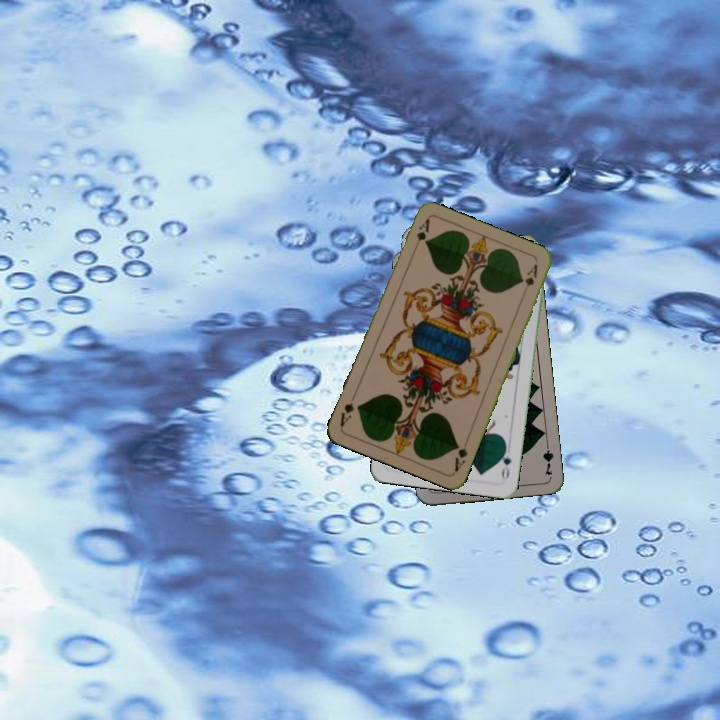G7: (539, 437, 556, 478)
GA: (410, 215, 432, 254), (450, 435, 471, 474)
GO: (497, 441, 514, 482)
